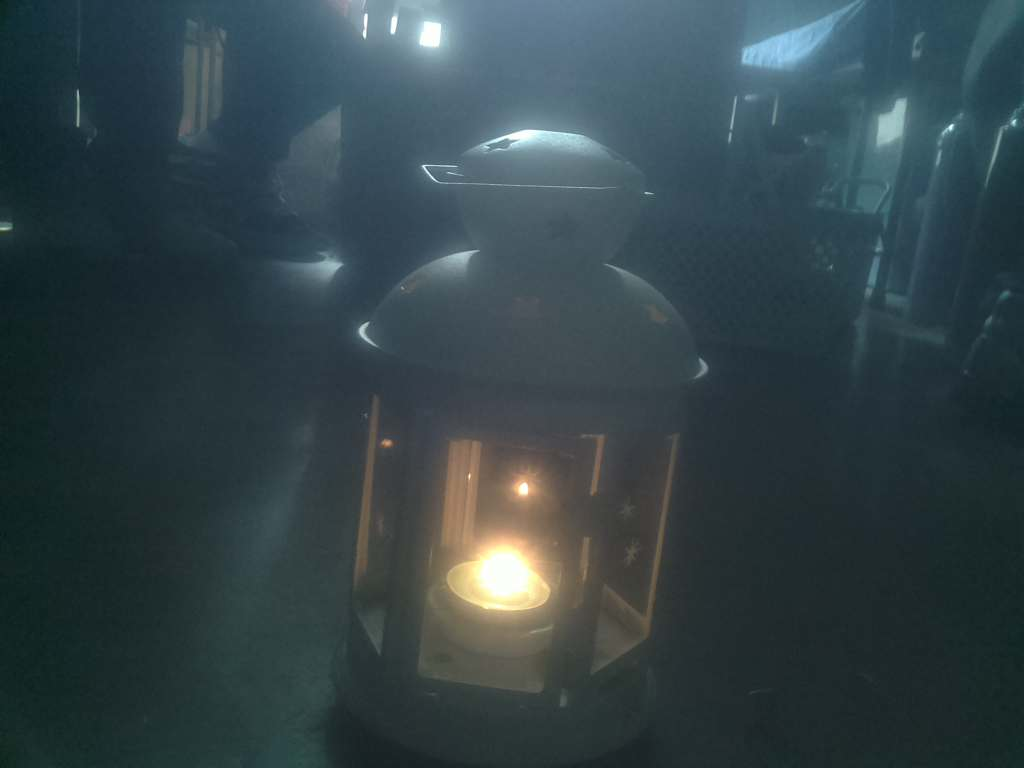fire: (428, 511, 569, 649)
